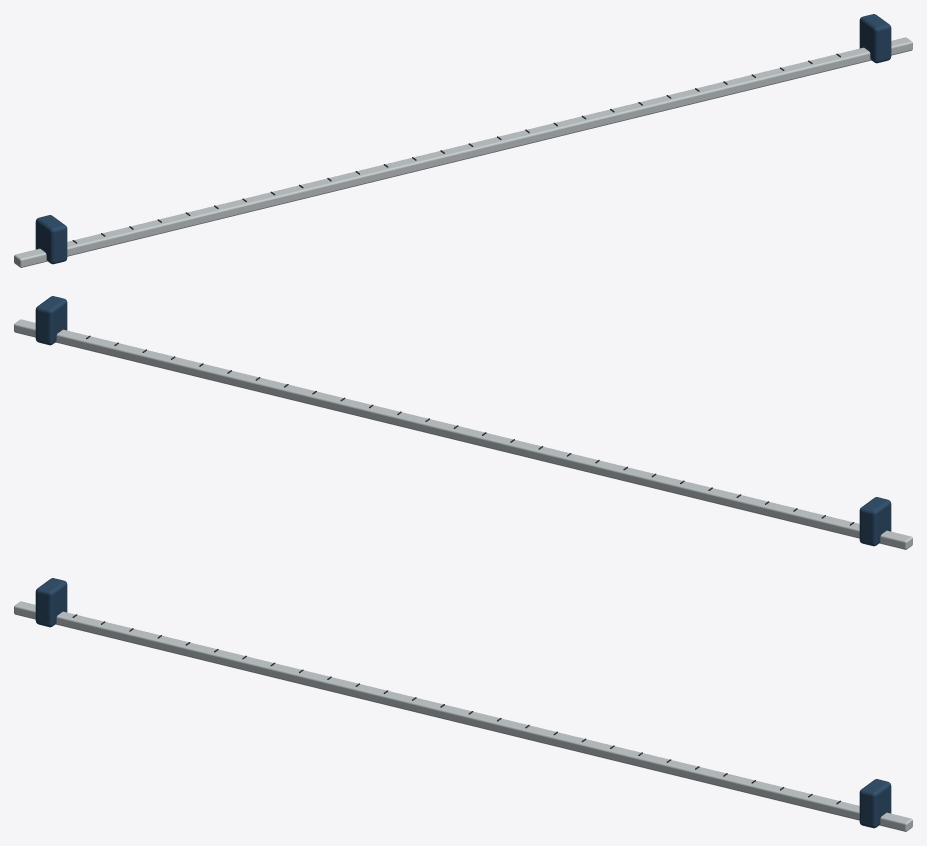
File: rowing-boathouse-and-regatta-course-spread-measuring-b-2f180af7__32149.glb
3 renders of one model, top to bottom at view 1: azimuth 30°, elevation 25°; view 2: azimuth 150°, elevation 25°; view 3: azimuth 330°, elevation 25°, orthographic.
Visible parts, largest first — view 1: spread-measuring-bar; view 2: spread-measuring-bar; view 3: spread-measuring-bar.
Boxes of the visible parts, box(x1,y1,x2,y2) form: spread-measuring-bar: box(14, 14, 912, 267); spread-measuring-bar: box(14, 296, 912, 549); spread-measuring-bar: box(14, 578, 912, 831).
Size of the model in its own units: 1.8 by 0.07 by 0.06.
